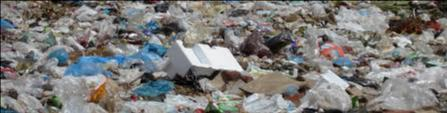Plastic: (366, 75, 439, 112), (127, 75, 186, 105)
